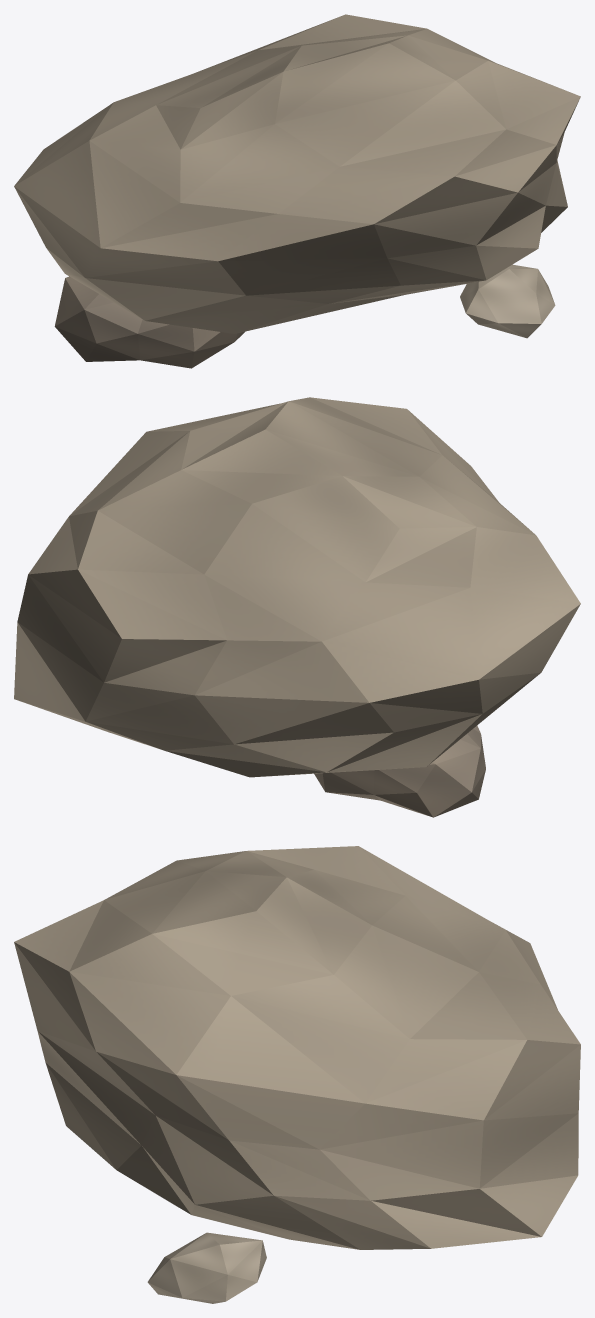
The model's file is rock-support-b.glb.
3 renders of one model, top to bottom at view 1: azimuth 30°, elevation 25°; view 2: azimuth 150°, elevation 25°; view 3: azimuth 270°, elevation 25°, orthographic. The views are drawn at different scales.
Size of the model in its own units: 1.94 by 1.12 by 1.72.
Materials: 3 (3 with a texture image).
